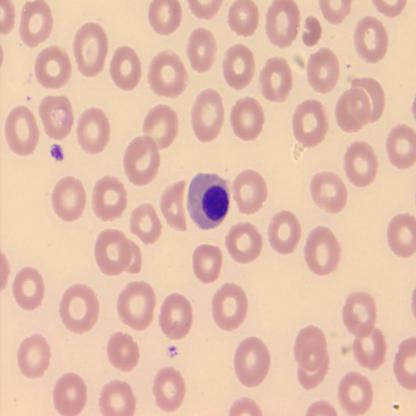NRC: (185, 169, 232, 232)
